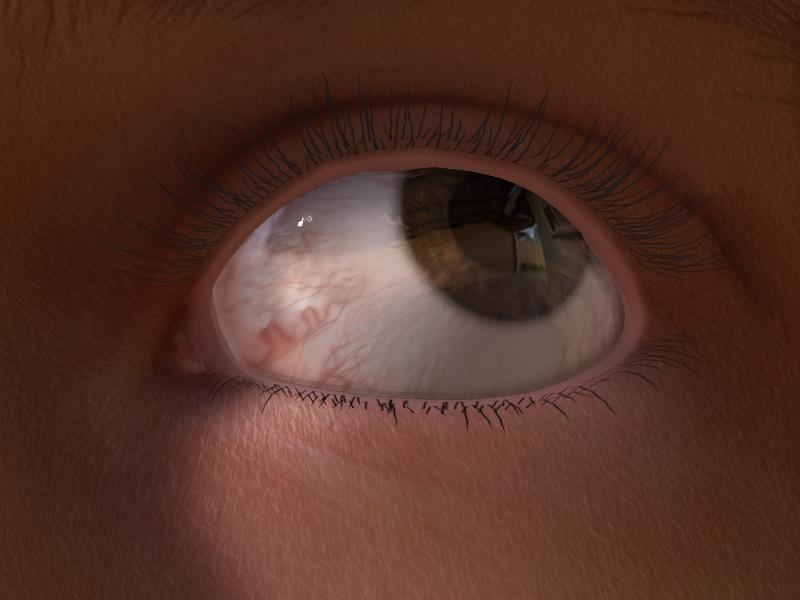eye: (398, 166, 591, 318)
